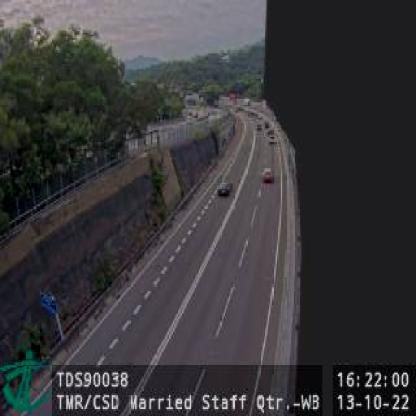Car: (219, 177, 233, 196), (262, 166, 273, 180)
